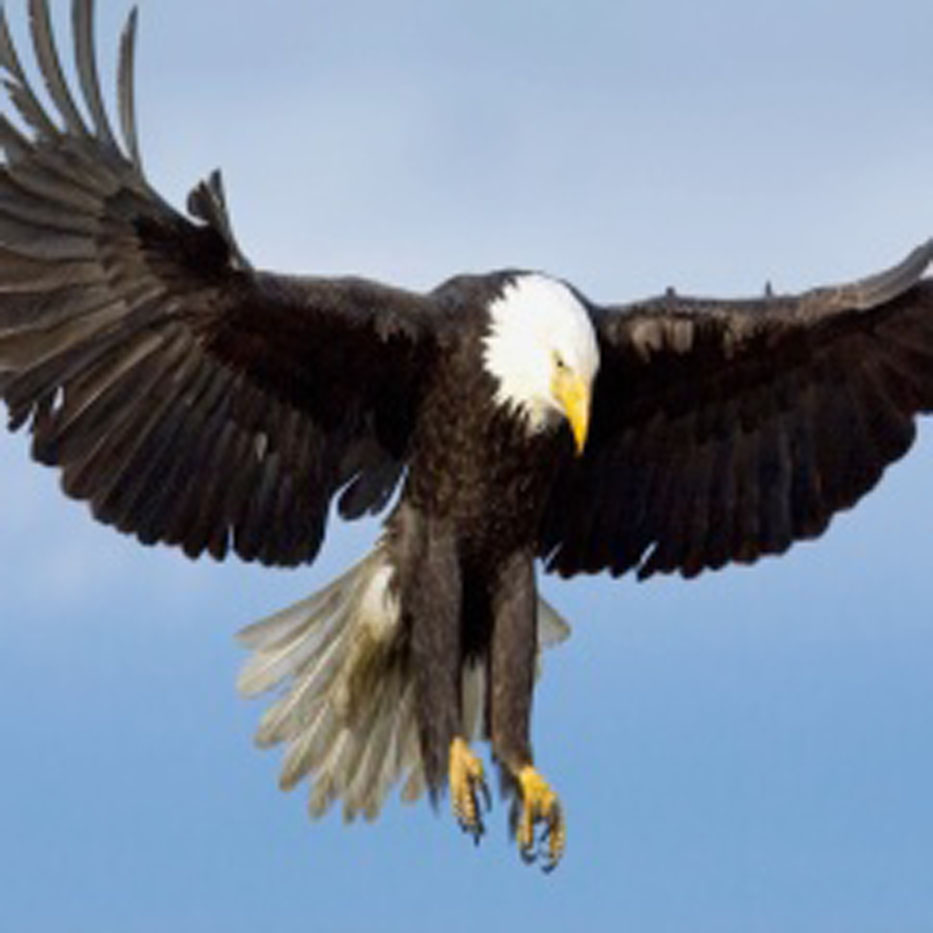Pengoyak Daging: (548, 372, 602, 461)
